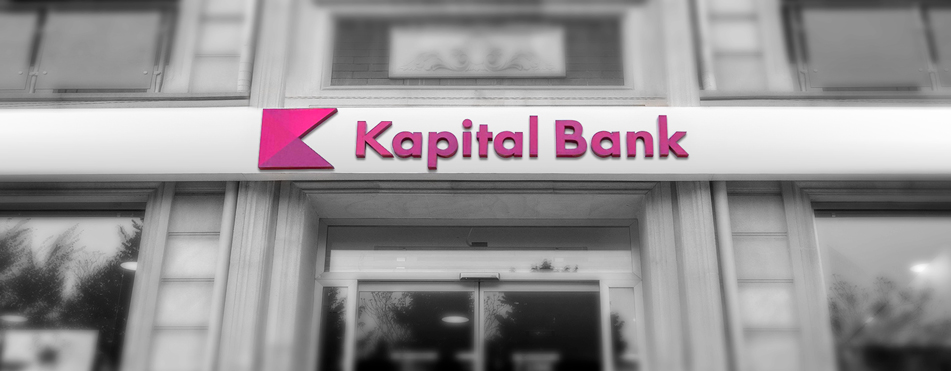Kapital Bank: (256, 105, 339, 170)
